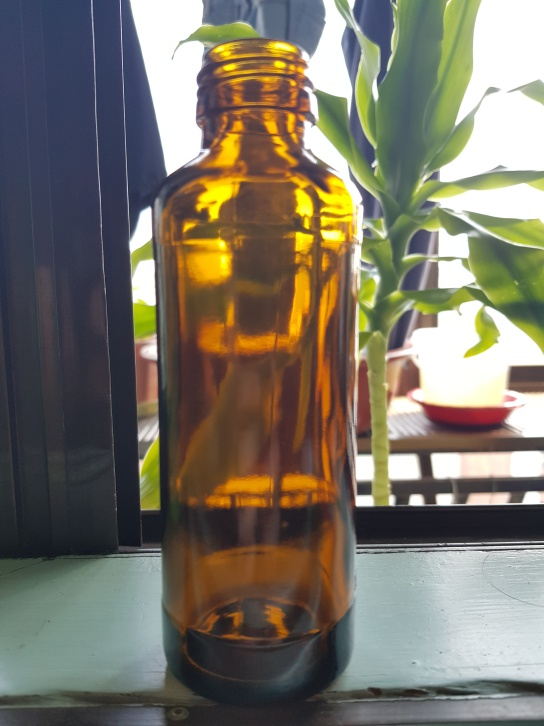Glass: (161, 39, 356, 702)
